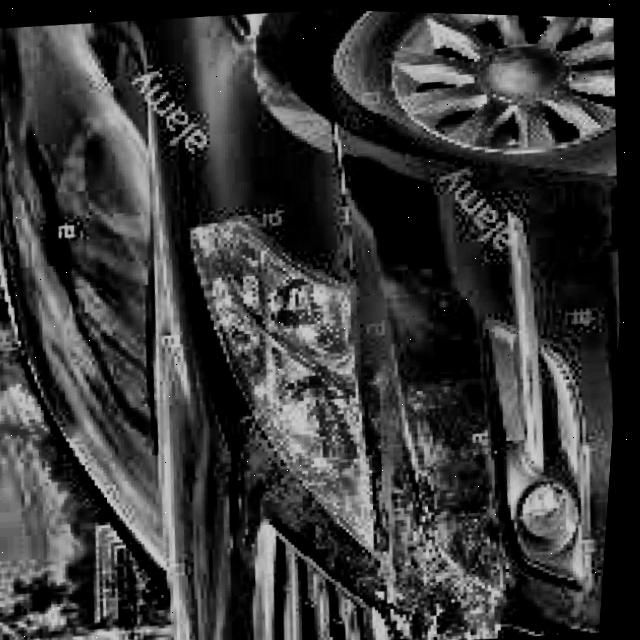bumper_dent: (365, 382, 521, 640)
